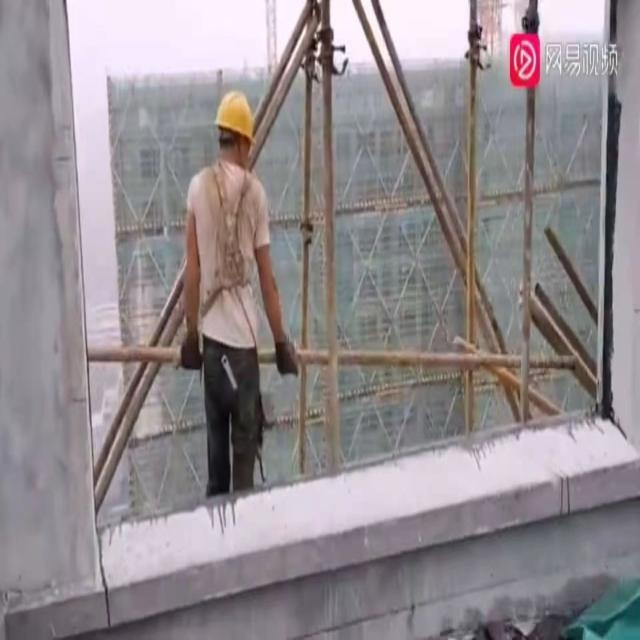Arnes_seguridad: (191, 161, 263, 344)
